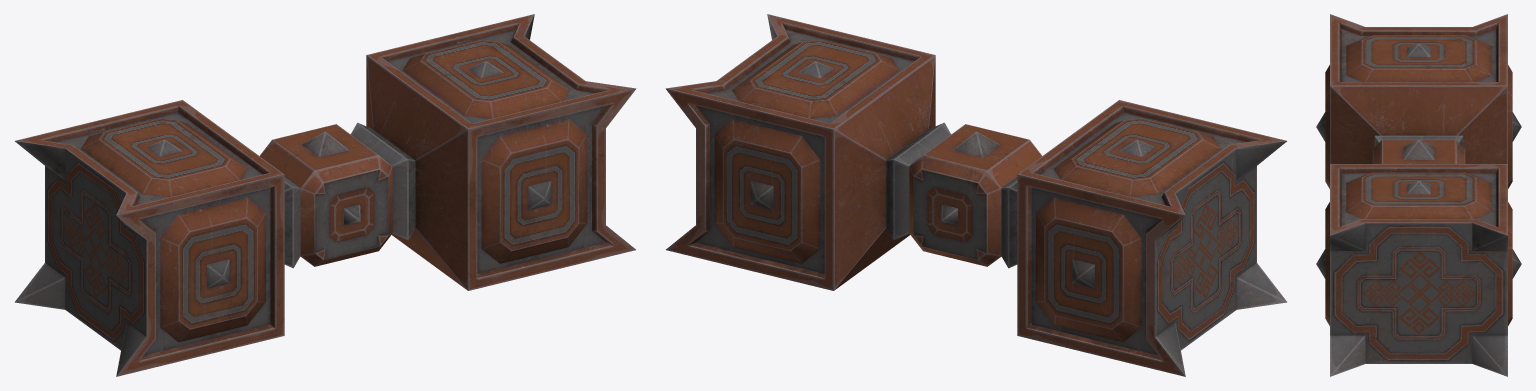
File: sm_dwarf_dain_hammer_blade_a.fbx
3 views of the same model, side by side, from view 1: azimuth 30°, elevation 25°; view 2: azimuth 150°, elevation 25°; view 3: azimuth 270°, elevation 25° (orthographic). The views are drawn at different scales.
Parts seen in each view (by area): view 1: sm_dwarf_dain_hammer_blade_a; view 2: sm_dwarf_dain_hammer_blade_a; view 3: sm_dwarf_dain_hammer_blade_a.
Part boxes in pixels (x1,y1,x2,y2): sm_dwarf_dain_hammer_blade_a: (14, 14, 636, 376); sm_dwarf_dain_hammer_blade_a: (665, 14, 1287, 376); sm_dwarf_dain_hammer_blade_a: (1316, 14, 1521, 376).
Bounding box in the file's own units: 0.68 × 0.2664 × 0.2376.
Materials: 1 (1 with a texture image).
